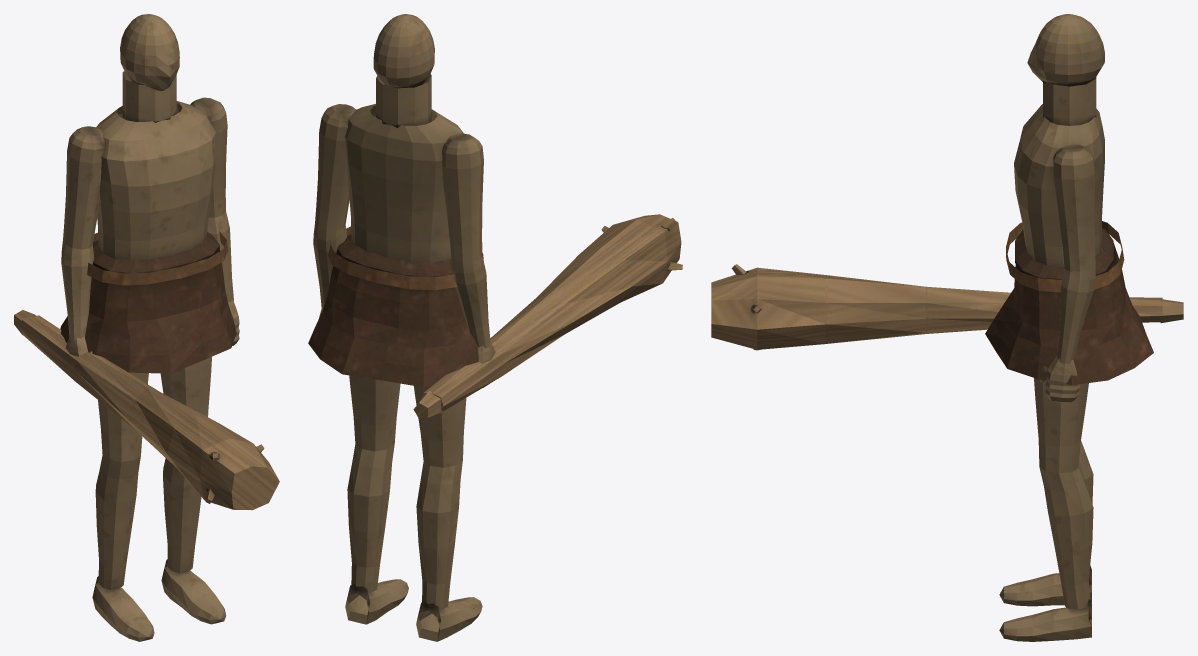
File: ogres.glb
3 renders of one model, left to right at view 1: azimuth 30°, elevation 25°; view 2: azimuth 150°, elevation 25°; view 3: azimuth 270°, elevation 25°, orthographic. The views are drawn at different scales.
Parts seen in each view (by area): view 1: ogres_LOD0; view 2: ogres_LOD0; view 3: ogres_LOD0.
Part boxes in pixels (<box>): ogres_LOD0: <box>14,14,279,641</box>; ogres_LOD0: <box>308,14,682,641</box>; ogres_LOD0: <box>711,14,1183,641</box>.
Size of what is drawn, in the model's own units: 0.5886 by 1.74 by 1.24.
Materials: 1 (1 with a texture image).
